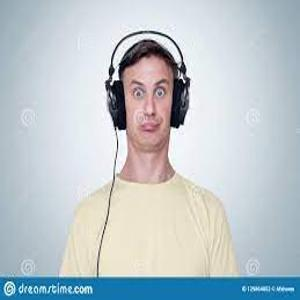Headphones: (104, 28, 191, 134)
